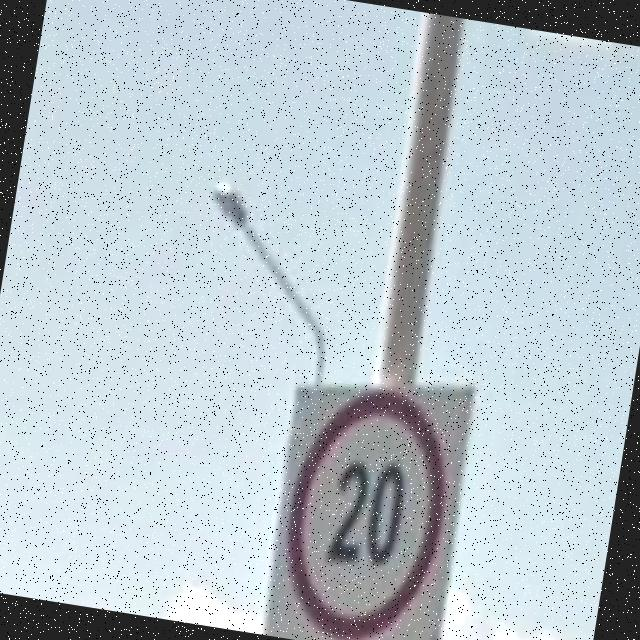Ograniczenie predkosci do 20: (271, 376, 463, 640)
